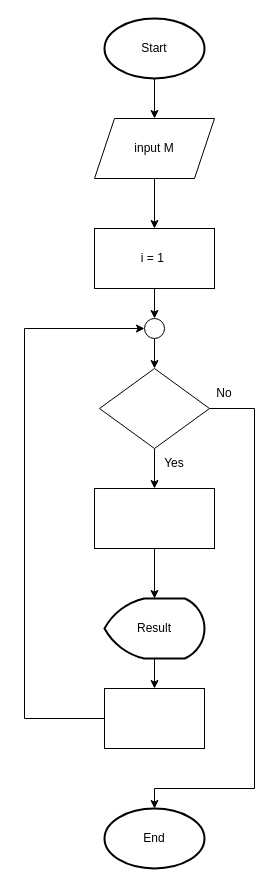
This 280x886 diagram has some shape labels left out. Here are the shapes that lost their labels. From the top down, the centre of each, then its label:
At (154,408): "i <= 12".
At (154,518): "M * i".
At (154,718): "i ++".
